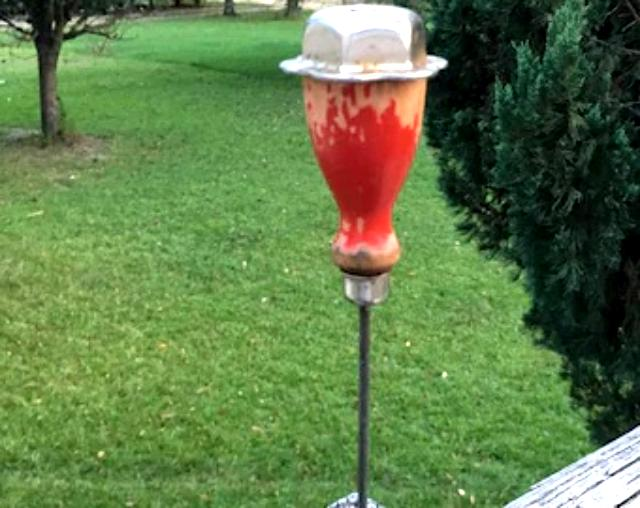ice pick: (280, 4, 448, 508)
